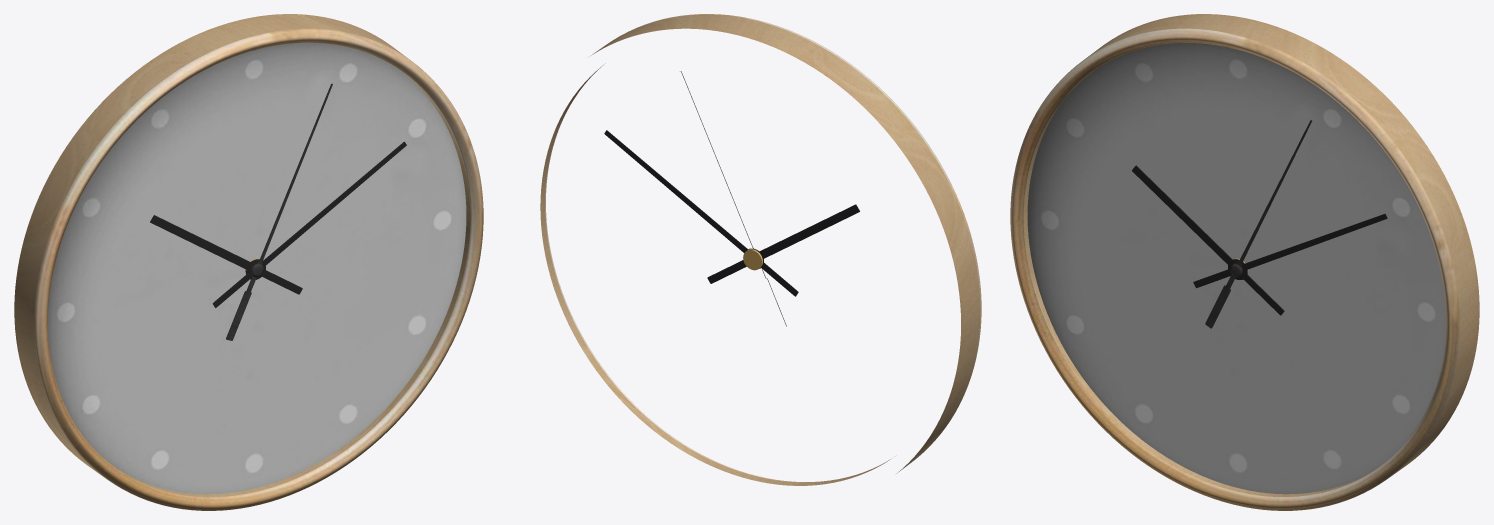
Rendered from Wall_clock_04.glb.
The picture shows the model from 3 angles, left to right: view 1: azimuth 30°, elevation 25°; view 2: azimuth 150°, elevation 25°; view 3: azimuth 330°, elevation 25°; orthographic projection.
Visible parts, largest first — view 1: BP_Wall_clock_04; view 2: BP_Wall_clock_04; view 3: BP_Wall_clock_04.
Boxes of the visible parts, <box> form: BP_Wall_clock_04: <box>14,14,483,510</box>; BP_Wall_clock_04: <box>540,14,981,485</box>; BP_Wall_clock_04: <box>1010,14,1479,510</box>.
Size of the model in its own units: 0.2879 by 0.2878 by 0.0265.
6 materials, 4 textured.
